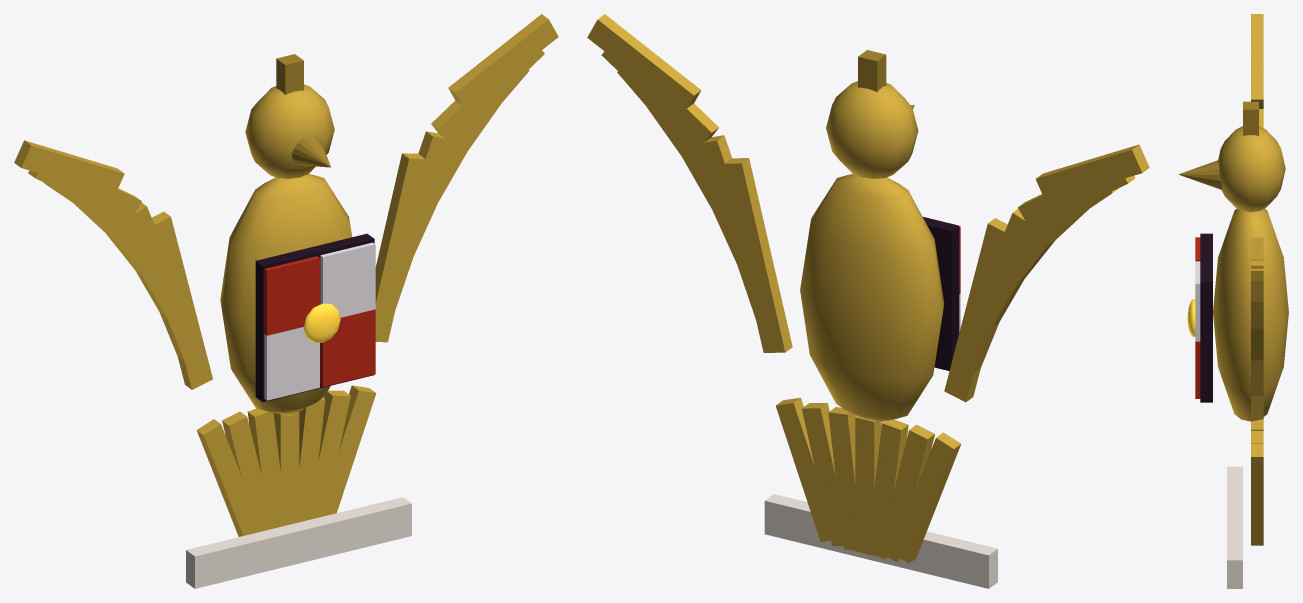
File: garuda.glb
3 renders of one model, left to right at view 1: azimuth 30°, elevation 25°; view 2: azimuth 150°, elevation 25°; view 3: azimuth 270°, elevation 25°, orthographic. The views are drawn at different scales.
Visible parts, largest first — view 1: Sphere; view 2: Sphere; view 3: Sphere.
Boxes of the visible parts, bbox=[...] form: Sphere: bbox=[14, 14, 558, 588]; Sphere: bbox=[587, 14, 1149, 588]; Sphere: bbox=[1178, 14, 1288, 588].
Bounding box in the file's own units: 1.14 × 1 × 0.2303.
Materials: 1 (1 with a texture image).
